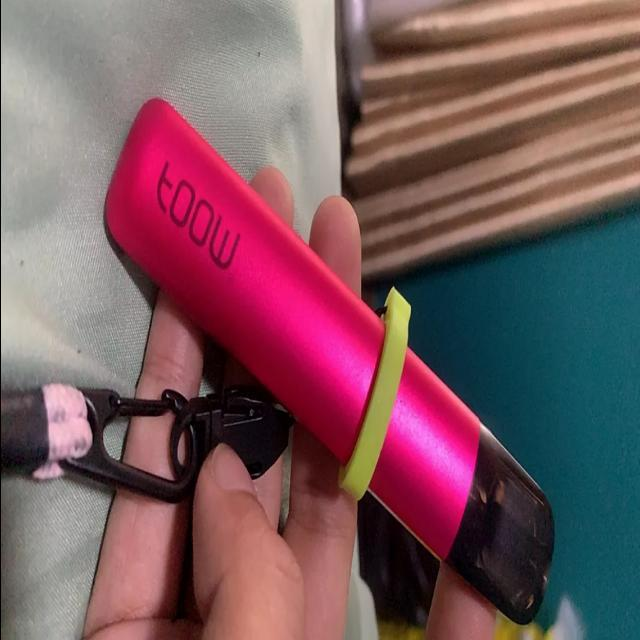Hazard: (104, 96, 556, 630)
